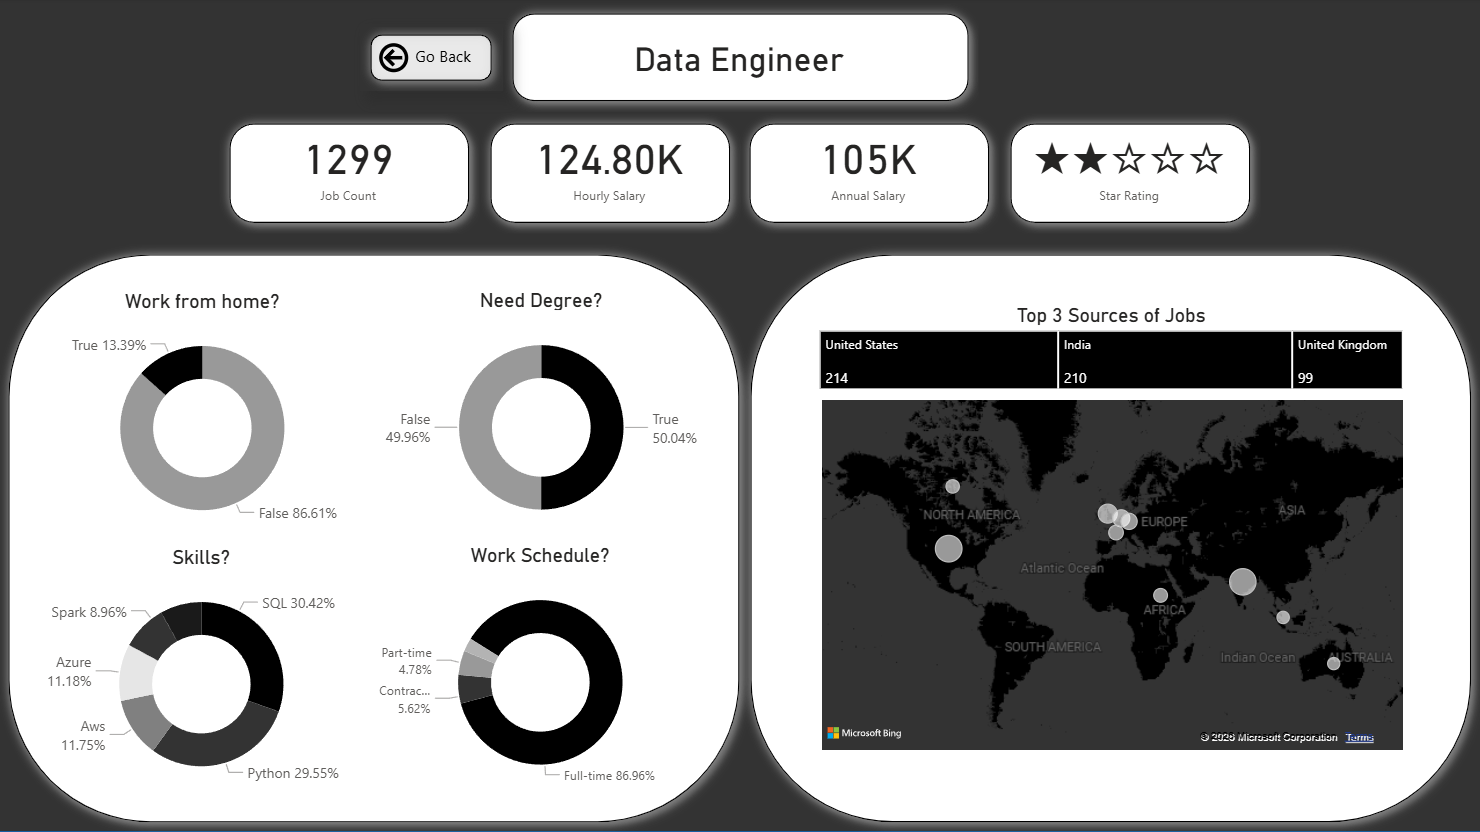

This screenshot's page, from the dashboard's own definition file:
{"tool":"powerbi","page":{"name":"Job Count - Drill Through","canvas":[1280,720],"ordinal":1},"visuals":[{"type":"shape","title":"BG","box":[0,0,1280,719.7],"z":0},{"type":"shape","title":"Bar & Scatter BG","box":[190.6,98.9,224.8,103.8],"z":0,"group":"g4"},{"type":"group","id":"g1","title":"Hourly Salary (ADJ)","box":[415.4,98.9,224.8,103.8],"z":0,"group":"g5"},{"type":"shape","title":"Bar & Scatter BG","box":[415.4,98.9,224.8,103.8],"z":0,"group":"g1"},{"type":"shape","title":"Bar & Scatter BG","box":[639.5,98.9,224.8,103.8],"z":0,"group":"g3"},{"type":"shape","title":"Bar & Scatter BG","box":[864.4,98.9,224.8,103.8],"z":0,"group":"g2"},{"type":"shape","title":"Title & Slicer (BG)","box":[434.6,4.6,411.5,93.6],"z":500,"group":"g7"},{"type":"group","id":"g2","title":"Salary Rating","box":[864.4,98.9,224.9,103.5],"z":500,"group":"g5"},{"type":"group","id":"g3","title":"Annual Salary","box":[639.5,98.9,224.8,103.8],"z":1000,"group":"g5"},{"type":"card","fields":{"Values":["CountNonNull(Live-Data.Job_Title_General)"]},"box":[205.6,100.7,193.7,84.4],"z":1000,"group":"g4"},{"type":"card","fields":{"Values":["Median(Live-Data.Hourly_Salary_Adj)"]},"box":[430.4,100.7,193.7,84.4],"z":1000,"group":"g1"},{"type":"card","fields":{"Values":["Median(Live-Data.Annual_Salary)"]},"box":[654.5,100.7,193.7,84.4],"z":1000,"group":"g3"},{"type":"card","fields":{"Values":["Live-Data.Annual_Salary_Rating"]},"box":[879.4,100.7,193.7,84.4],"z":1000,"group":"g2"},{"type":"shape","title":"Pie - BG","box":[0,453,1280,251],"z":1000},{"type":"map","title":"Job Locale","fields":{"Category":["Live-Data.Job_Country"],"Size":["CountNonNull(Live-Data.Job_Title_General)"]},"box":[322.6,473.1,632.8,210.1],"z":1500},{"type":"actionButton","box":[311.9,22.4,122.7,58],"z":2000},{"type":"group","id":"g4","title":"Job Count","box":[190.6,98.9,224.8,103.8],"z":2000,"group":"g5"},{"type":"card","fields":{"Values":["Min(Live-Data.Job_Title_General)"]},"box":[451.4,21.3,375.9,60],"z":3000,"group":"g7"},{"type":"group","id":"g5","title":"Major Metrics","box":[190.6,98.9,898.8,103.5],"z":4000},{"type":"shape","title":"Pie - BG","box":[0,202.5,1280,251.3],"z":4500,"group":"g6"},{"type":"group","id":"g6","title":"Pie Graphs","box":[0,202.5,1280,251.3],"z":5000},{"type":"donutChart","title":"Work from home?","fields":{"Category":["Live-Data.Job_WFH"],"Y":["CountNonNull(Live-Data.Job_Title_General)"]},"box":[52.8,217.7,292.1,220.9],"z":5000,"group":"g6"},{"type":"group","id":"g7","title":"Title","box":[434.6,4.6,411.5,93.6],"z":5500},{"type":"donutChart","title":"Need Degree?","fields":{"Category":["Live-Data.Job_Req_Degree"],"Y":["CountNonNull(Live-Data.Job_Title_General)"]},"box":[347.1,217.7,292.1,220.9],"z":6000,"group":"g6"},{"type":"donutChart","title":"Health Insurance?","fields":{"Y":["CountNonNull(Live-Data.Job_Title_General)"],"Category":["Live-Data.Job_HealthInsurance"]},"box":[641.4,217.7,292.1,220.9],"z":7000,"group":"g6"},{"type":"donutChart","title":"Work Schedule?","fields":{"Category":["Live-Data.Job_Schedule_Type"],"Series":["Live-Data.Job_Schedule_Type"],"Y":["CountNonNull(Live-Data.Job_Title_General)"]},"box":[935.8,217.7,292.1,220.9],"z":8000,"group":"g6"}]}

Visuals, with their boxes in screenshot pixels (x1, y1, x2, y2), scaled from the page's 1280x720 canvas onto the 1480x832 screenshot:
"BG" shape: x1=0, y1=0, x2=1479, y2=831
"Bar & Scatter BG" shape: x1=220, y1=114, x2=480, y2=234
"Hourly Salary (ADJ)" group: x1=480, y1=114, x2=740, y2=234
"Bar & Scatter BG" shape: x1=480, y1=114, x2=740, y2=234
"Bar & Scatter BG" shape: x1=739, y1=114, x2=999, y2=234
"Bar & Scatter BG" shape: x1=999, y1=114, x2=1259, y2=234
"Title & Slicer (BG)" shape: x1=503, y1=5, x2=978, y2=113
"Salary Rating" group: x1=999, y1=114, x2=1260, y2=234
"Annual Salary" group: x1=739, y1=114, x2=999, y2=234
card - CountNonNull(Live-Data.Job_Title_General): x1=238, y1=116, x2=462, y2=214
card - Median(Live-Data.Hourly_Salary_Adj): x1=498, y1=116, x2=722, y2=214
card - Median(Live-Data.Annual_Salary): x1=757, y1=116, x2=981, y2=214
card - Live-Data.Annual_Salary_Rating: x1=1017, y1=116, x2=1241, y2=214
"Pie - BG" shape: x1=0, y1=523, x2=1479, y2=814
"Job Locale" map: x1=373, y1=547, x2=1105, y2=789
actionButton: x1=361, y1=26, x2=503, y2=93
"Job Count" group: x1=220, y1=114, x2=480, y2=234
card - Min(Live-Data.Job_Title_General): x1=522, y1=25, x2=957, y2=94
"Major Metrics" group: x1=220, y1=114, x2=1260, y2=234
"Pie - BG" shape: x1=0, y1=234, x2=1479, y2=524
"Pie Graphs" group: x1=0, y1=234, x2=1479, y2=524
"Work from home?" donutChart: x1=61, y1=252, x2=399, y2=507
"Title" group: x1=503, y1=5, x2=978, y2=113
"Need Degree?" donutChart: x1=401, y1=252, x2=739, y2=507
"Health Insurance?" donutChart: x1=742, y1=252, x2=1079, y2=507
"Work Schedule?" donutChart: x1=1082, y1=252, x2=1420, y2=507
